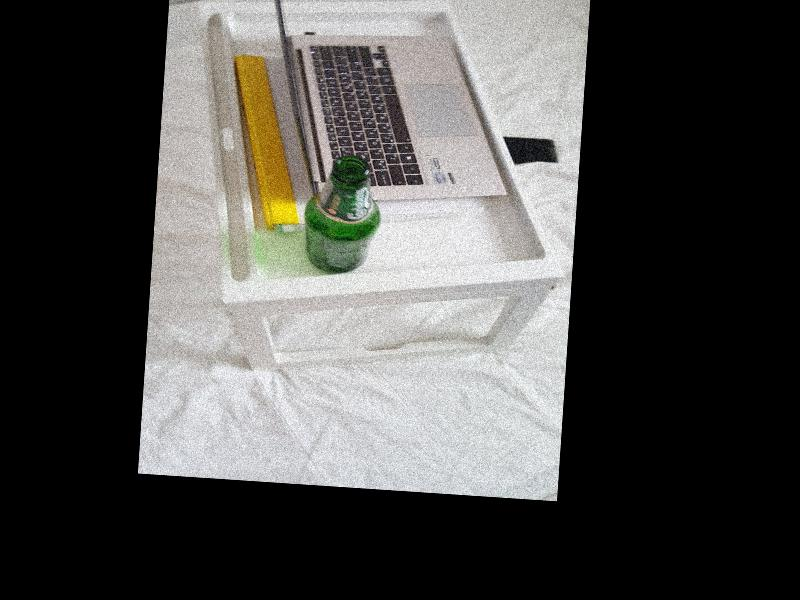Beer: (301, 153, 382, 276)
